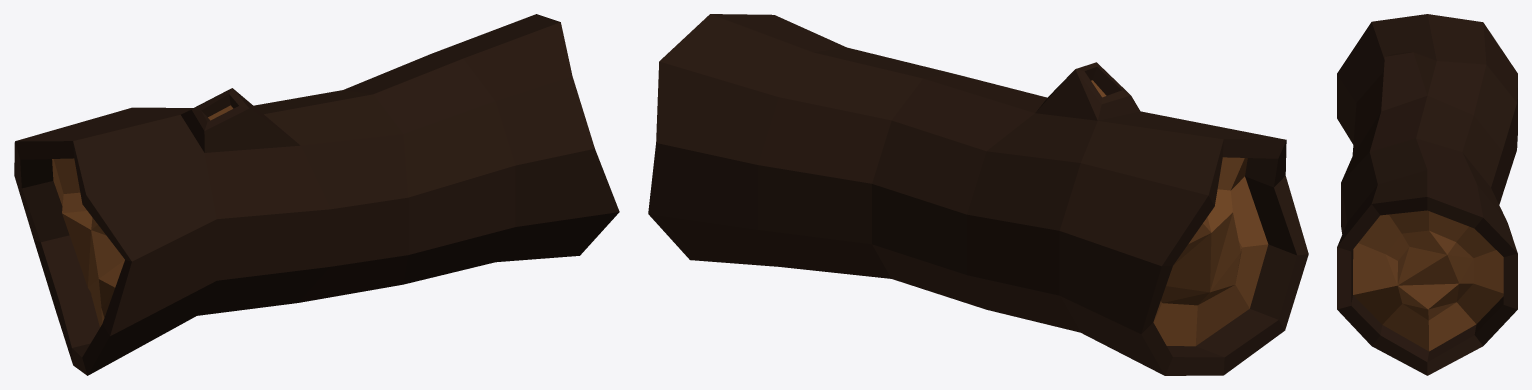
The model's file is Log_Model_01.FBX.
The picture shows the model from 3 angles, left to right: view 1: azimuth 30°, elevation 25°; view 2: azimuth 150°, elevation 25°; view 3: azimuth 270°, elevation 25°; orthographic projection. The views are drawn at different scales.
Visible parts, largest first — view 1: Cylinder001; view 2: Cylinder001; view 3: Cylinder001.
Boxes of the visible parts, box(x1,y1,x2,y2) form: Cylinder001: box(14, 14, 619, 375); Cylinder001: box(648, 14, 1308, 375); Cylinder001: box(1337, 14, 1517, 375).
Size of the model in its own units: 29.65 by 13.25 by 11.42.
